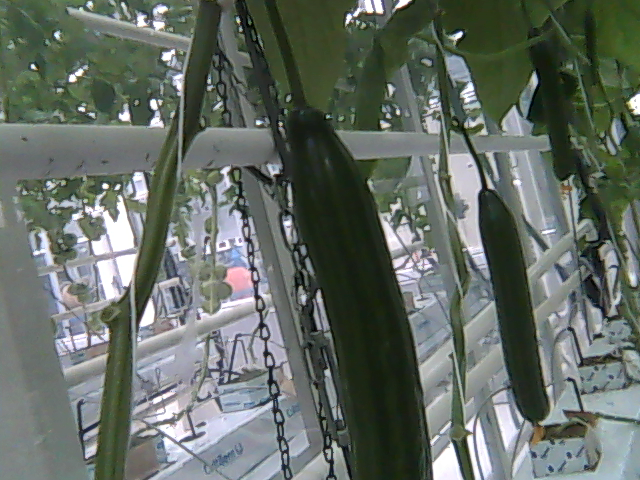concombre: (277, 102, 438, 480), (471, 180, 556, 447)
